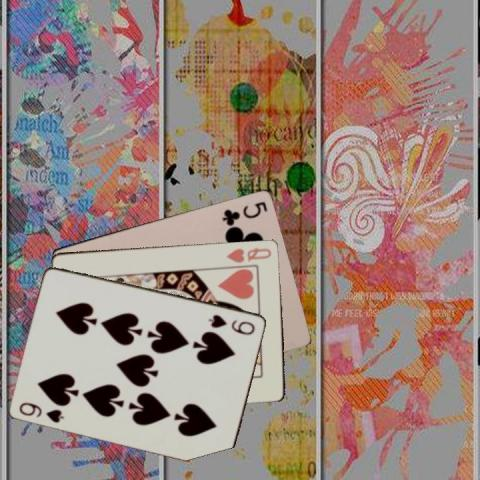5c: (219, 198, 269, 225)
9s: (205, 311, 257, 336), (16, 399, 66, 424)
Qh: (224, 244, 273, 264)
